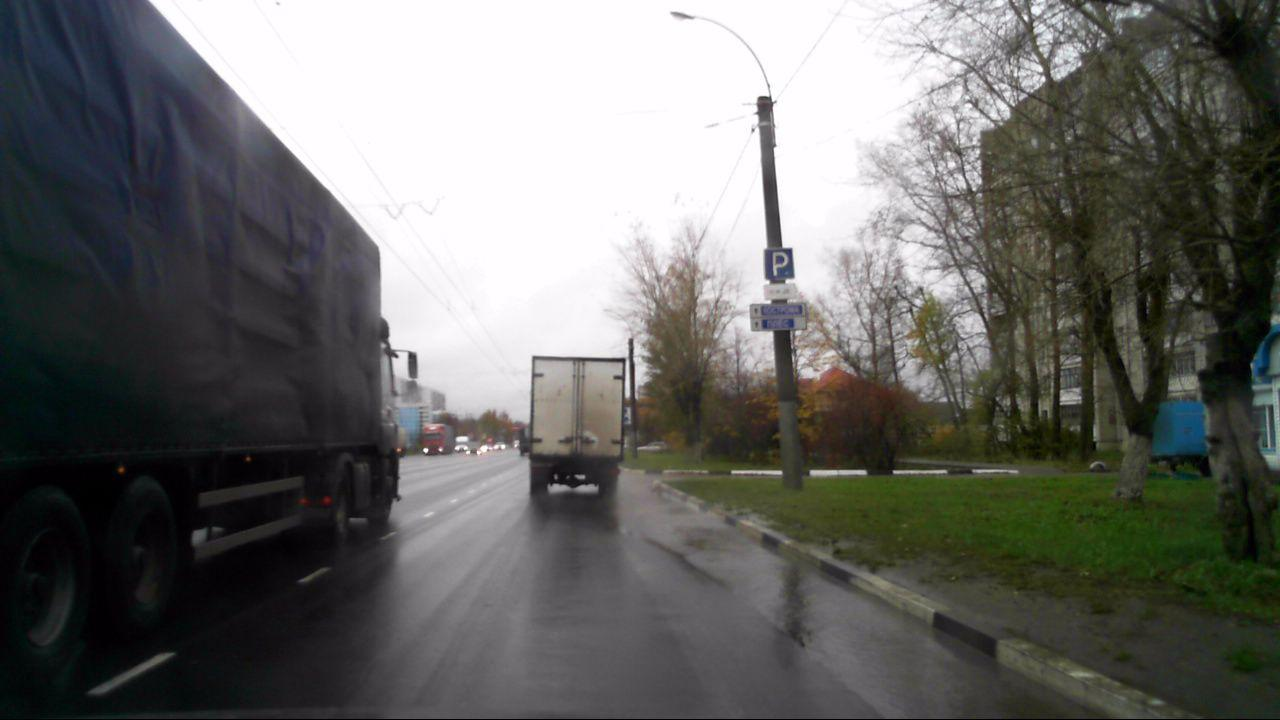6_10_1: (750, 305, 806, 331)
6_4: (764, 248, 794, 281)
8_8: (763, 282, 794, 299)
